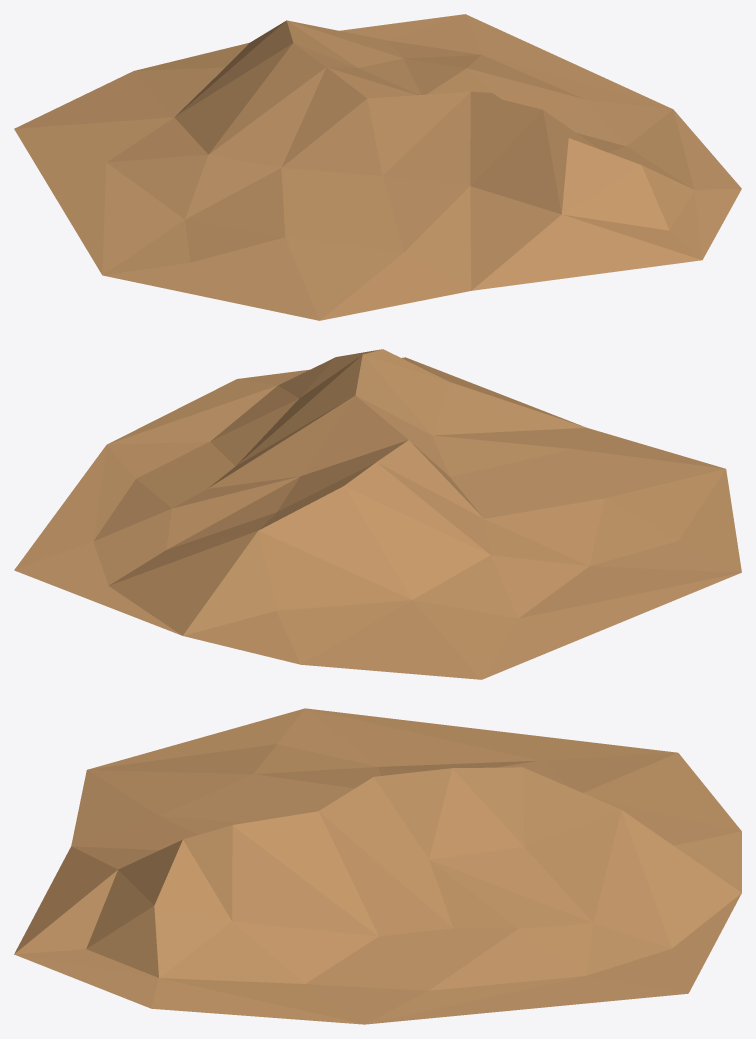
File: TB_D_Env_DuneB_A.FBX
3 renders of one model, top to bottom at view 1: azimuth 30°, elevation 25°; view 2: azimuth 150°, elevation 25°; view 3: azimuth 270°, elevation 25°, orthographic. The views are drawn at different scales.
Visible parts, largest first — view 1: TB_D_Env_DuneB_A; view 2: TB_D_Env_DuneB_A; view 3: TB_D_Env_DuneB_A.
Boxes of the visible parts, x1=… form: TB_D_Env_DuneB_A: x1=14, y1=14, x2=741, y2=320; TB_D_Env_DuneB_A: x1=14, y1=349, x2=741, y2=679; TB_D_Env_DuneB_A: x1=14, y1=708, x2=741, y2=1024.
Bounding box in the file's own units: 15.42 × 2.24 × 15.
